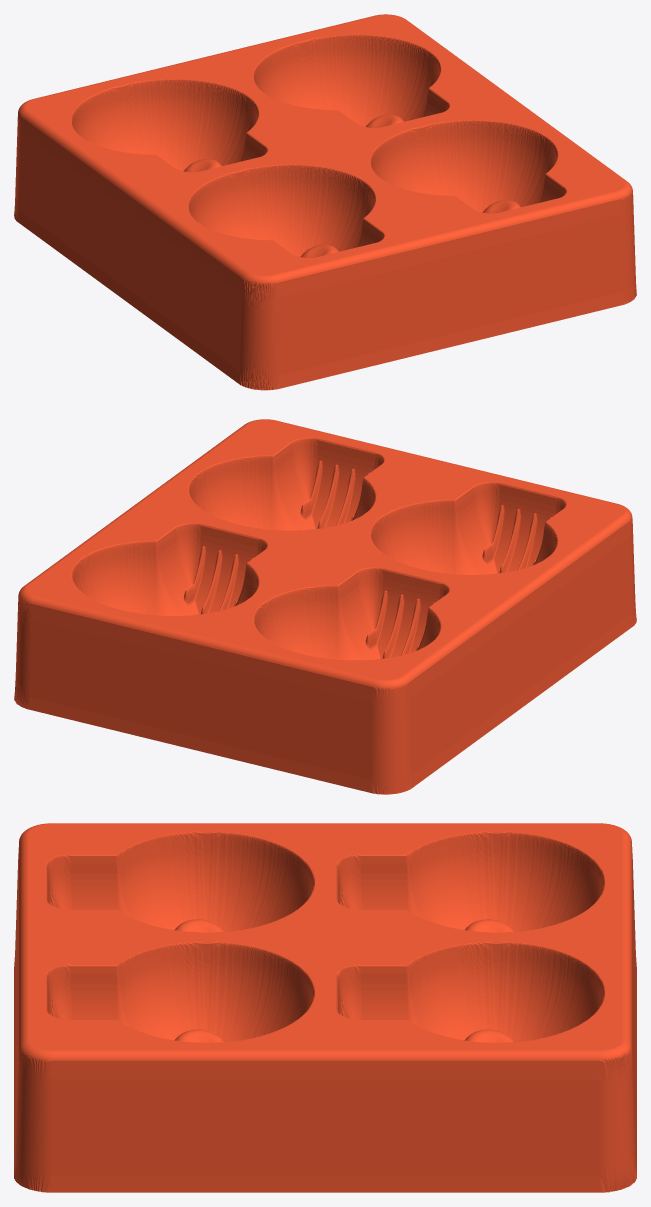
The model's file is mold.glb.
3 views of the same model, one above another, from view 1: azimuth 30°, elevation 25°; view 2: azimuth 150°, elevation 25°; view 3: azimuth 270°, elevation 25° (orthographic). The views are drawn at different scales.
Parts seen in each view (by area): view 1: geometry_0; view 2: geometry_0; view 3: geometry_0.
Part boxes in pixels (box(x1,y1,x2,y2)): geometry_0: box(14, 14, 636, 390); geometry_0: box(14, 419, 636, 794); geometry_0: box(14, 823, 636, 1192).
Bounding box in the file's own units: 0.1353 × 0.036 × 0.1493.
